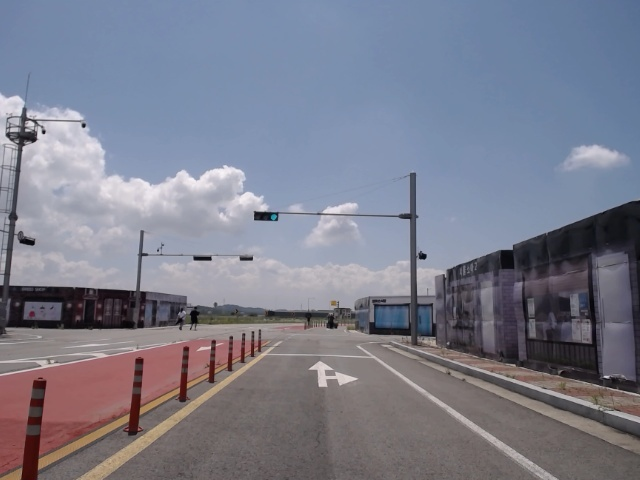green_3: (254, 212, 278, 221)
